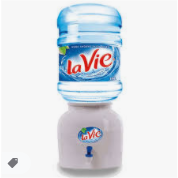Bottle: (56, 5, 123, 109)
